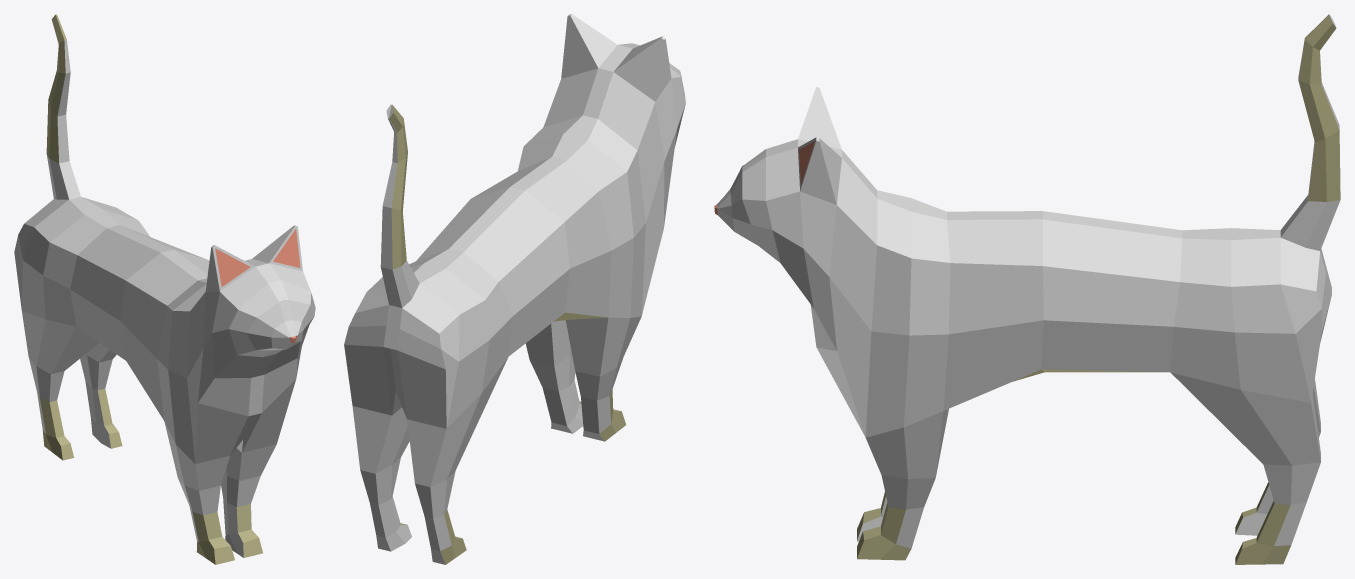
Rendered from ChannelAnimation.glb.
The picture shows the model from 3 angles, left to right: view 1: azimuth 30°, elevation 25°; view 2: azimuth 150°, elevation 25°; view 3: azimuth 270°, elevation 25°; orthographic projection. The views are drawn at different scales.
Parts seen in each view (by area): view 1: Plano; view 2: Plano; view 3: Plano.
Boxes of the visible parts, left/top/right/bottom form: Plano: left=14, top=14, right=315, bottom=564; Plano: left=344, top=14, right=685, bottom=564; Plano: left=714, top=14, right=1340, bottom=564.
Bounding box in the file's own units: 0.3792 × 1.47 × 1.57.
